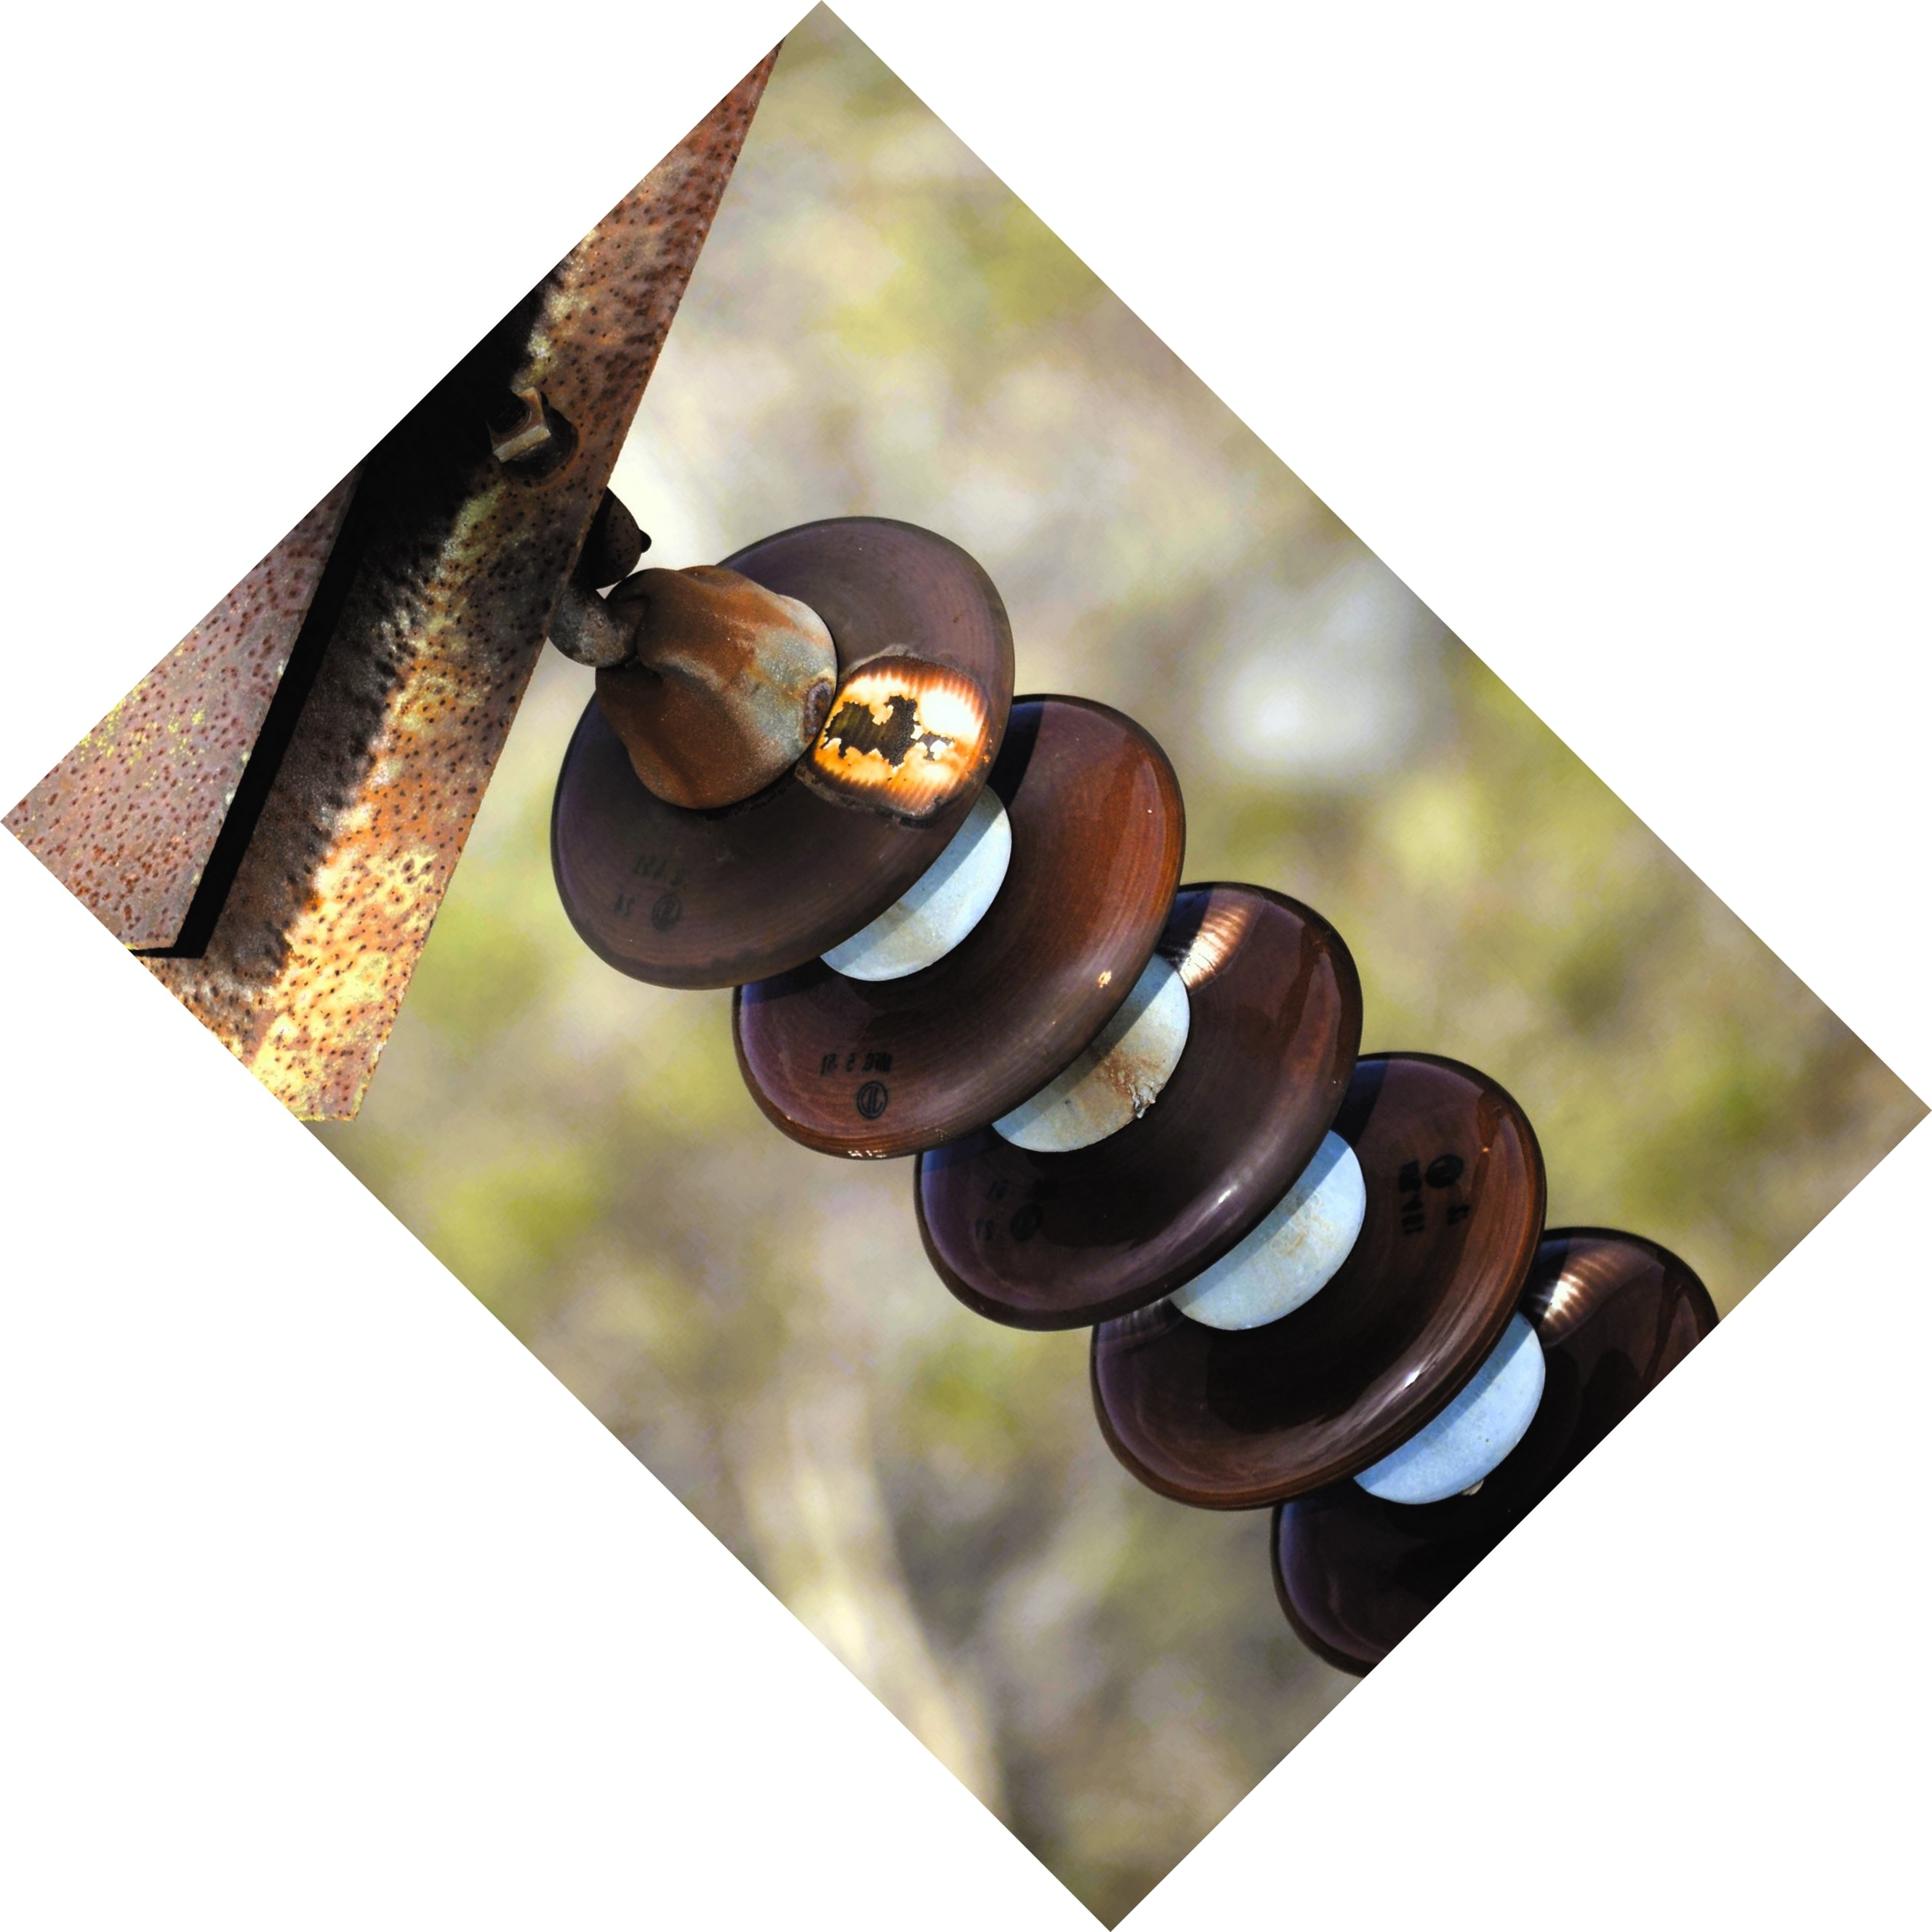Insulator flashover: (540, 501, 1049, 1007)
